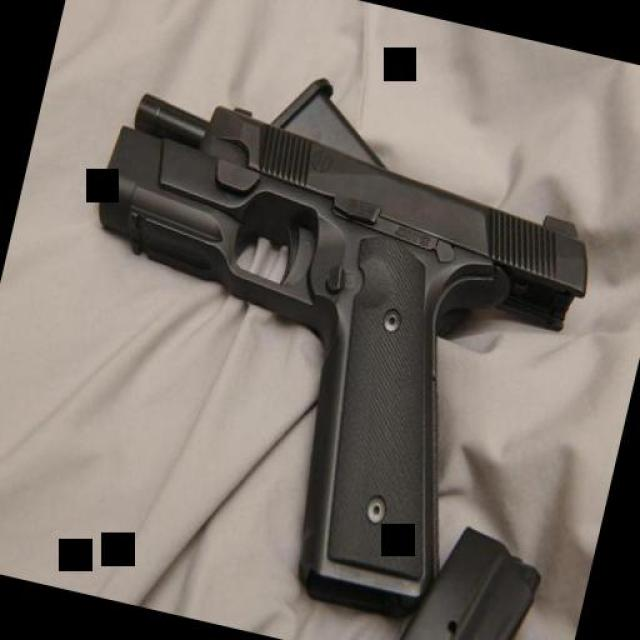gun: (12, 76, 608, 640)
